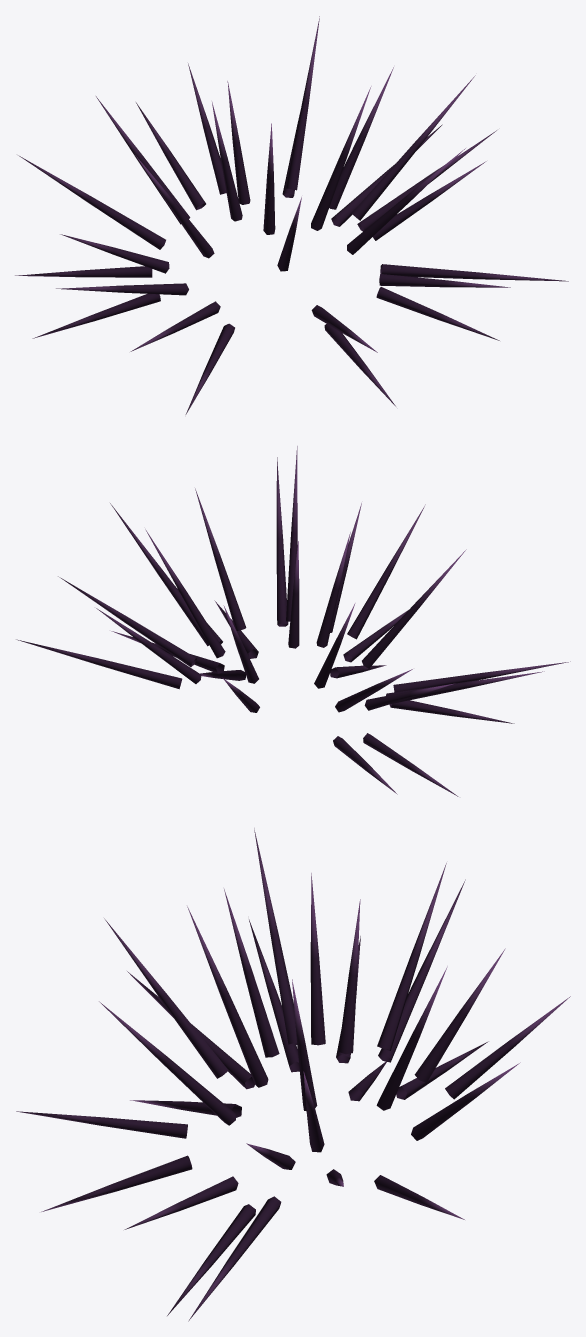
File: Uni_SpineB.fbx
The picture shows the model from 3 angles, top to bottom: view 1: azimuth 30°, elevation 25°; view 2: azimuth 150°, elevation 25°; view 3: azimuth 270°, elevation 25°; orthographic projection. The views are drawn at different scales.
Parts seen in each view (by area): view 1: Uni_SpineB; view 2: Uni_SpineB; view 3: Uni_SpineB.
Boxes of the visible parts, left/top/right/bottom form: Uni_SpineB: left=15, top=16, right=568, bottom=414; Uni_SpineB: left=16, top=446, right=570, bottom=796; Uni_SpineB: left=16, top=828, right=570, bottom=1321.
Size of the model in its own units: 3.05 by 1.67 by 2.46.
